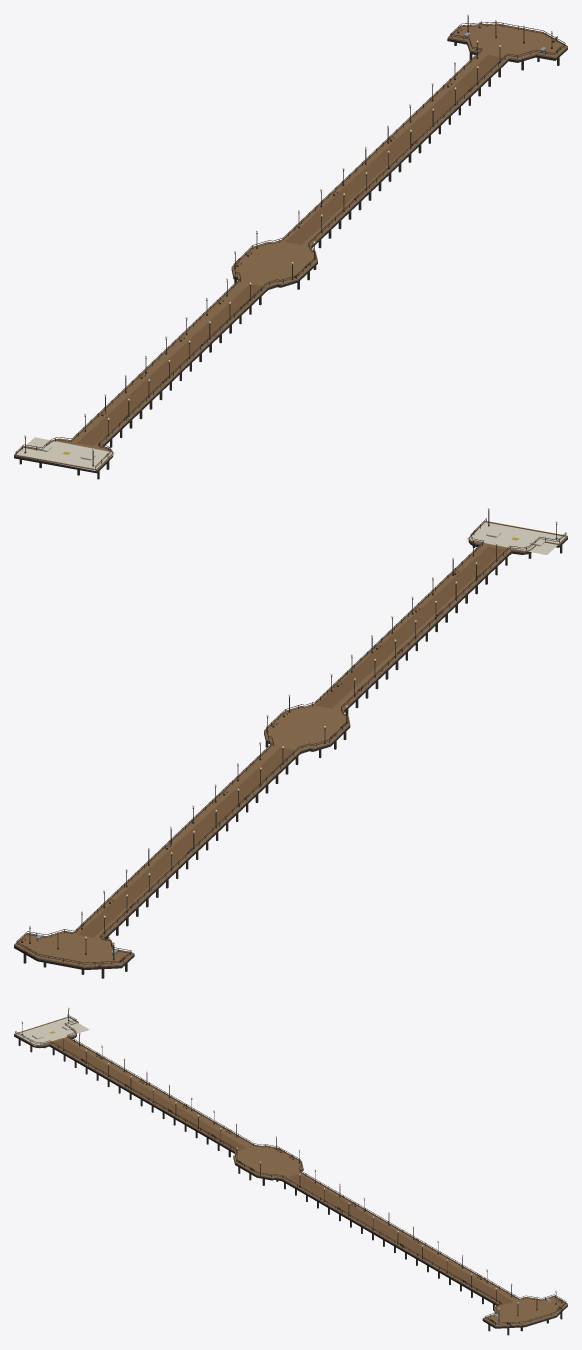
The model's file is pier-7.glb.
3 renders of one model, top to bottom at view 1: azimuth 30°, elevation 25°; view 2: azimuth 210°, elevation 25°; view 3: azimuth 270°, elevation 25°, orthographic. The views are drawn at different scales.
Parts seen in each view (by area): view 1: deck_surface, lane_bay, lane_shore, bullrail, deck_slab, plaza, rail_top, rail_mid; view 2: deck_surface, lane_bay, lane_shore, bullrail, deck_slab, plaza, rail_top, rail_mid; view 3: deck_surface, lane_bay, bullrail, lane_shore, deck_slab, rail_top, rail_mid, plaza.
Part boxes in pixels (x1,y1,x2,y2): deck_surface: [14, 25, 567, 470]; lane_bay: [285, 54, 503, 244]; lane_shore: [78, 284, 265, 445]; bullrail: [14, 24, 567, 470]; deck_slab: [14, 39, 567, 473]; plaza: [16, 437, 114, 470]; rail_top: [16, 22, 565, 466]; rail_mid: [16, 23, 565, 467]; deck_surface: [14, 537, 567, 967]; lane_bay: [78, 747, 295, 937]; lane_shore: [316, 546, 504, 708]; bullrail: [14, 521, 567, 967]; deck_slab: [14, 537, 567, 969]; plaza: [467, 522, 565, 554]; rail_top: [16, 518, 565, 962]; rail_mid: [16, 520, 565, 964]; deck_surface: [14, 1034, 567, 1326]; lane_bay: [288, 1174, 513, 1304]; bullrail: [14, 1017, 567, 1326]; lane_shore: [54, 1039, 246, 1150]; deck_slab: [14, 1035, 567, 1328]; rail_top: [15, 1015, 566, 1323]; rail_mid: [15, 1016, 565, 1324]; plaza: [16, 1017, 89, 1046].
Size of the model in its own units: 220 by 7.6 by 166.
